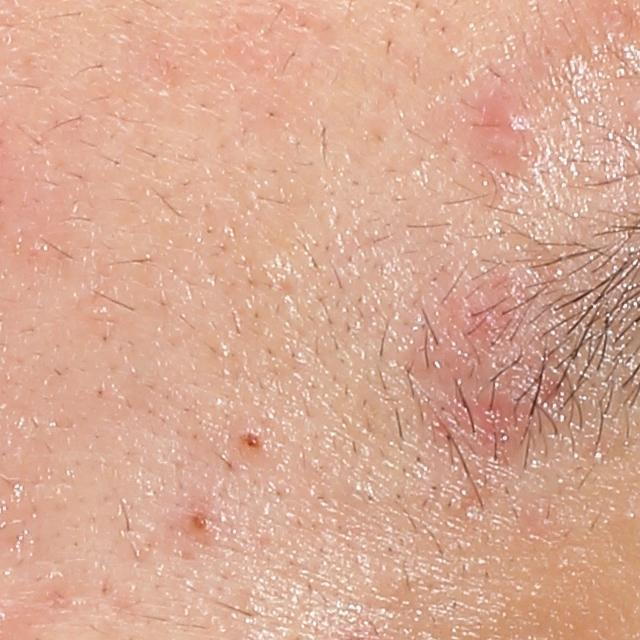papule: (483, 376, 540, 419), (189, 506, 213, 537)
